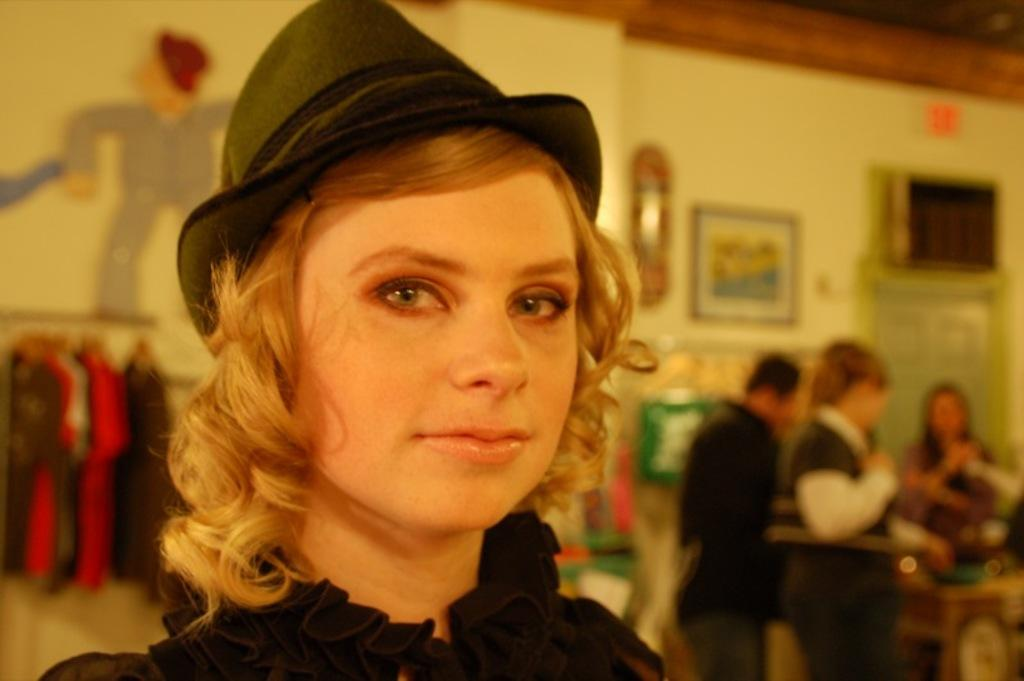Hat: (176, 0, 601, 362)
